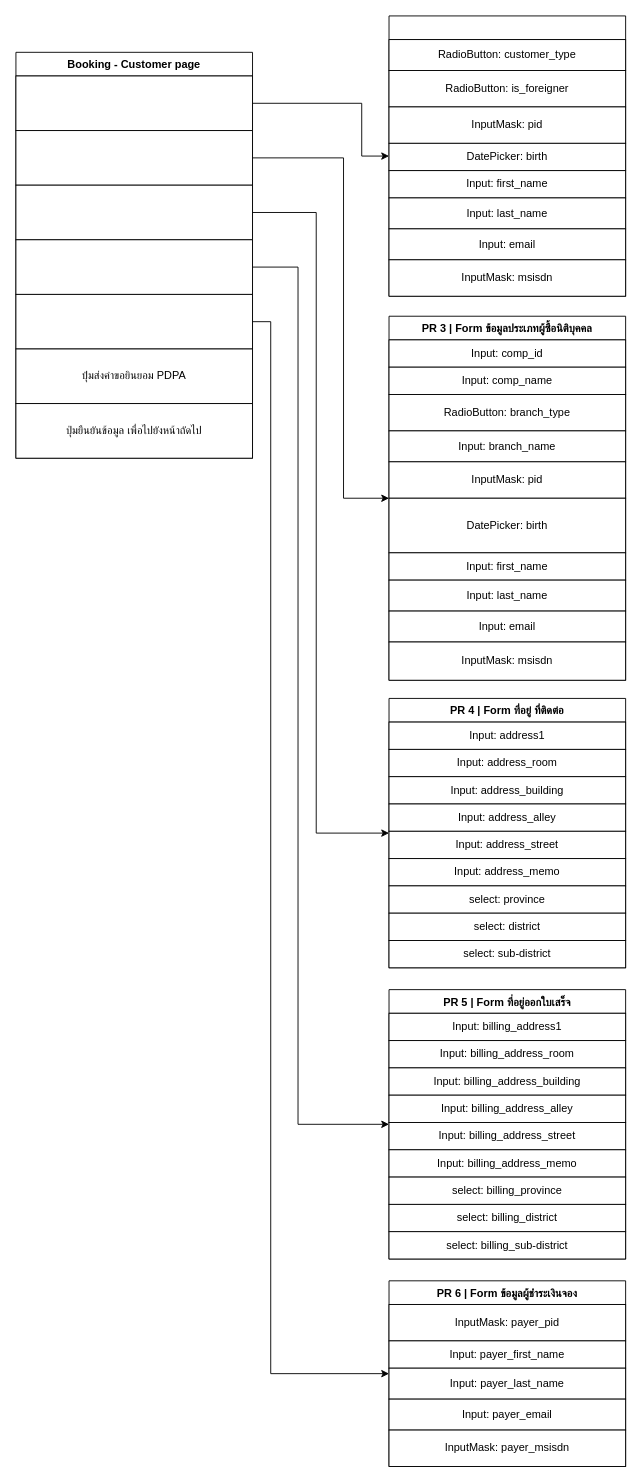
Some shapes in this 642 by 1482 pixel diagram are drawn without their labels. Here are the shapes that lost their labels. From the top down, the box of each, then its label:
(15, 75, 253, 131): กรอกข้อมูลประเภทผู้ซื้อบุคคลธรรมดา
(15, 130, 253, 185): กรอกข้อมูลประเภทผู้ซื้อนิติบุคคล
(388, 15, 626, 296): PR 2 | Form ข้อมูลประเภทผู้ซื้อบุคคลธรรมดา
(15, 184, 253, 240): กรอกที่อยู่ ที่ติดต่อ
(15, 239, 253, 294): กรอกที่อยู่ออกใบเสร็จ
(15, 293, 253, 349): กรอกข้อมูลผู้ชำระเงินจอง
